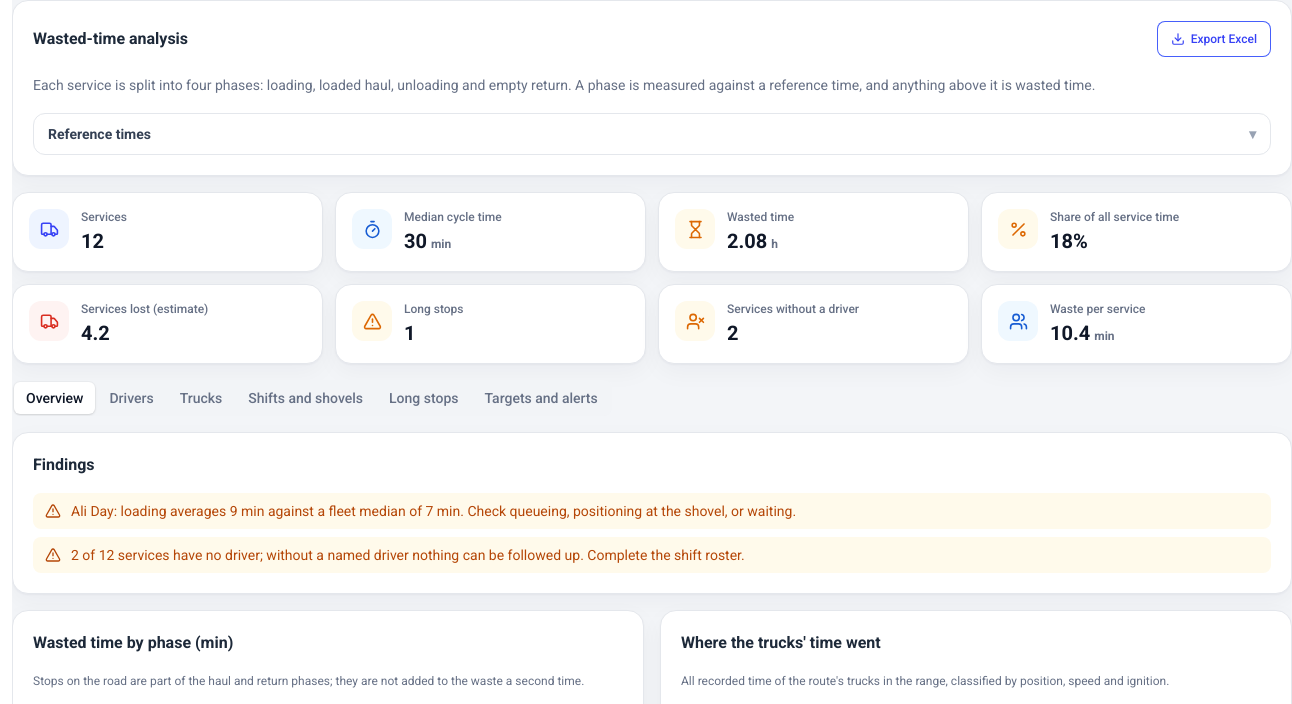
Test: haul analysis section › turns the control limits into alert advice
The image size is (1292, 704).
Click the radio button labelled "Targets and alerts".
click(541, 398)  # box [472,382,610,414]
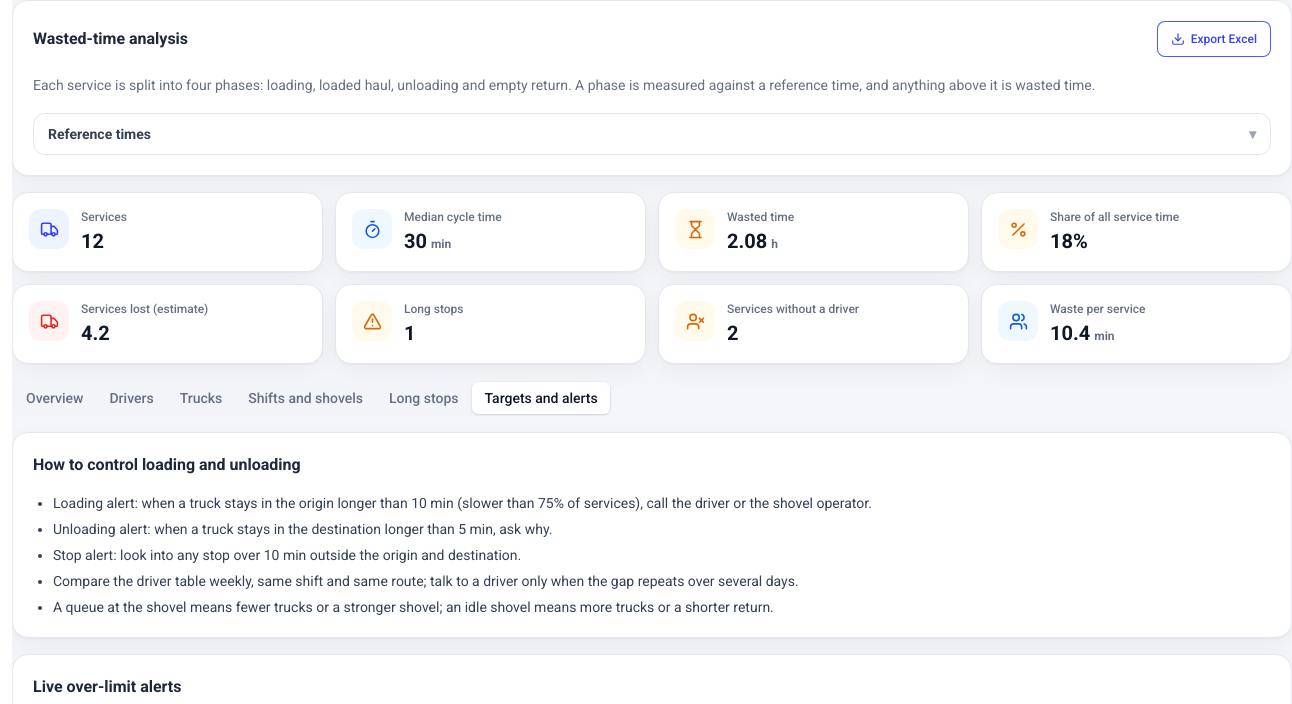
Result: the element with test id "analysis-control" shows "longer than 10 min" at [53,495,872,511]
Result: the element with test id "analysis-control" shows "longer than 5 min" at [53,521,552,537]
